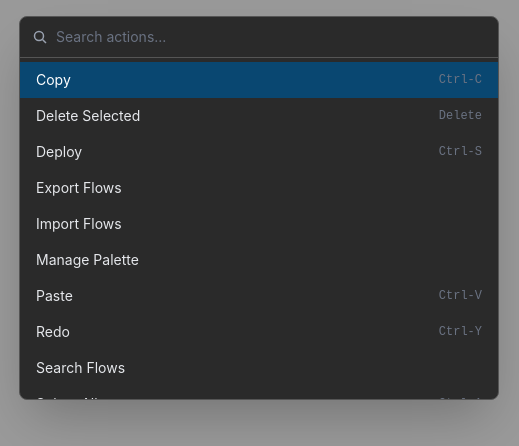
Test: ActionList › filtering › filters actions by name using fuzzy search
Type "undo" into the field with test id "action-list-input" at point(271, 37), box [56,17,486,57]
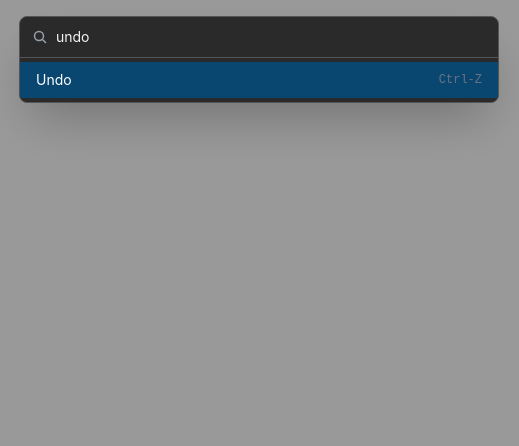
Now the text "Undo" is shown, box [36,70,72,90]
Now the button shows "Undo", box [20,62,498,98]
